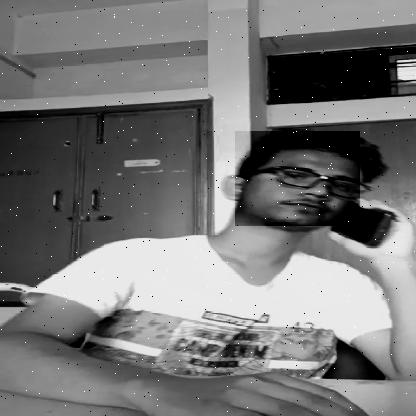Distracted: (235, 131, 360, 226)
